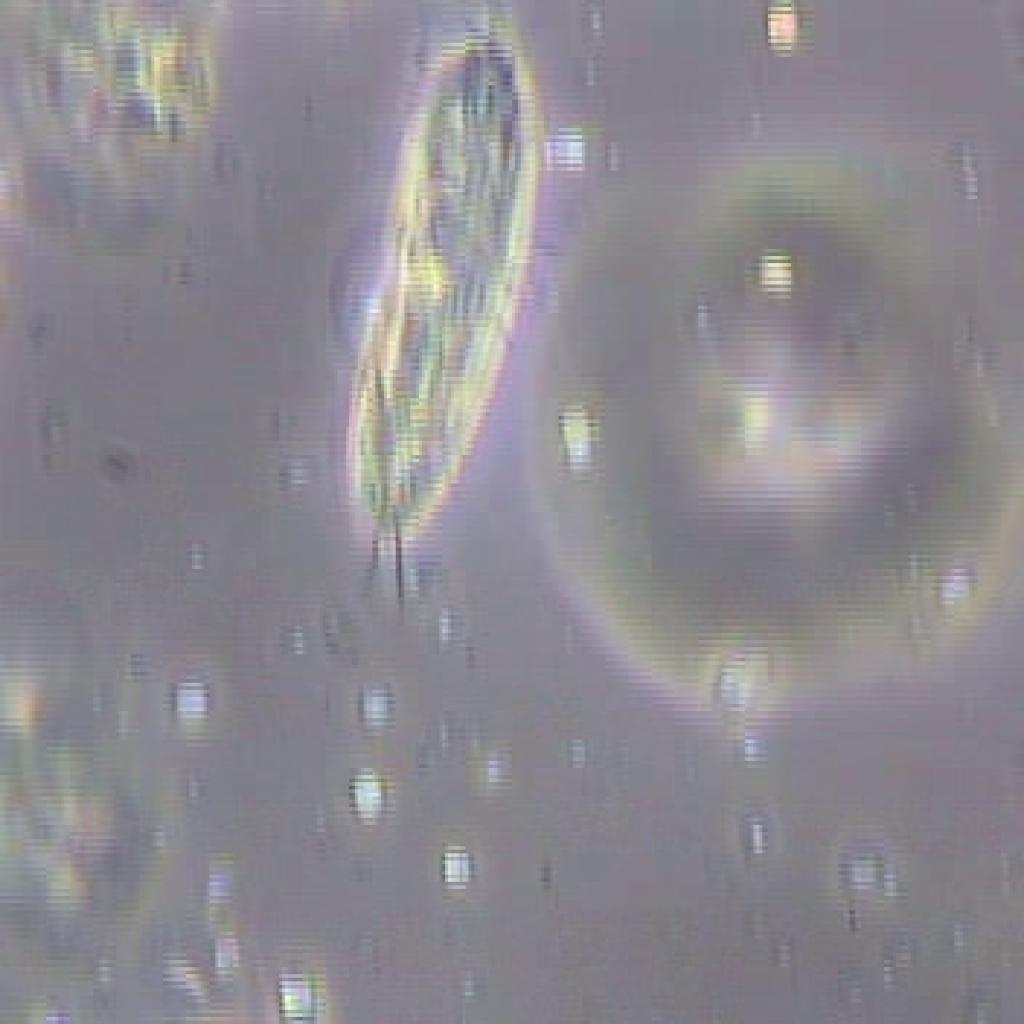Stylonychia: (312, 21, 568, 608)
